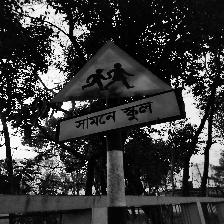School-in-front: (51, 40, 185, 143)
